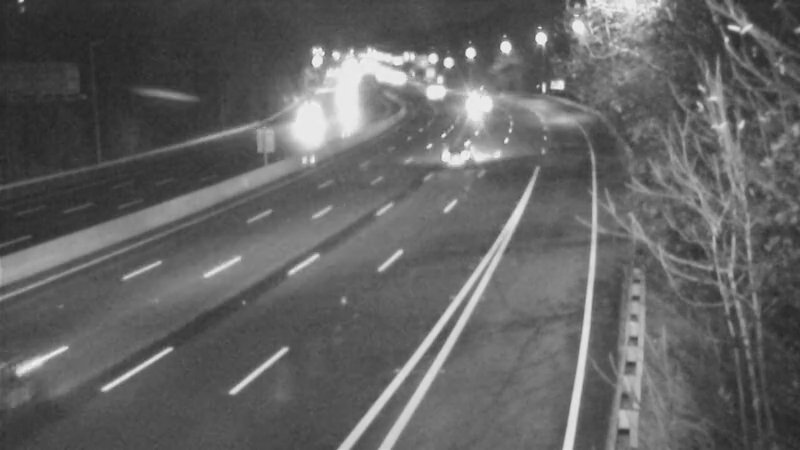vehicle: (1, 341, 87, 450), (426, 118, 506, 198), (411, 68, 461, 118), (447, 78, 497, 128), (279, 108, 329, 158)
